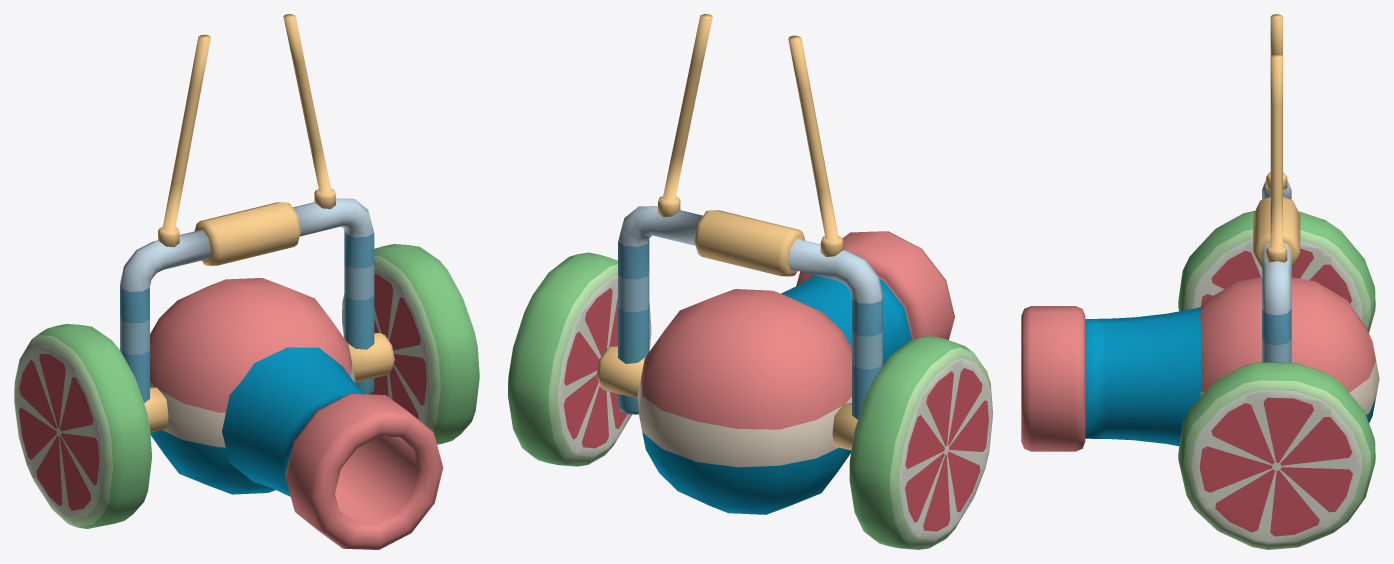
Rendered from candy_platform11.fbx.
3 renders of one model, left to right at view 1: azimuth 30°, elevation 25°; view 2: azimuth 150°, elevation 25°; view 3: azimuth 270°, elevation 25°, orthographic. The views are drawn at different scales.
Parts seen in each view (by area): view 1: candy_platform11; view 2: candy_platform11; view 3: candy_platform11.
Part boxes in pixels (<box>): candy_platform11: <box>14,14,479,549</box>; candy_platform11: <box>508,14,992,549</box>; candy_platform11: <box>1021,14,1379,549</box>.
Size of the model in its own units: 269 by 312 by 232.
Materials: 1 (1 with a texture image).
